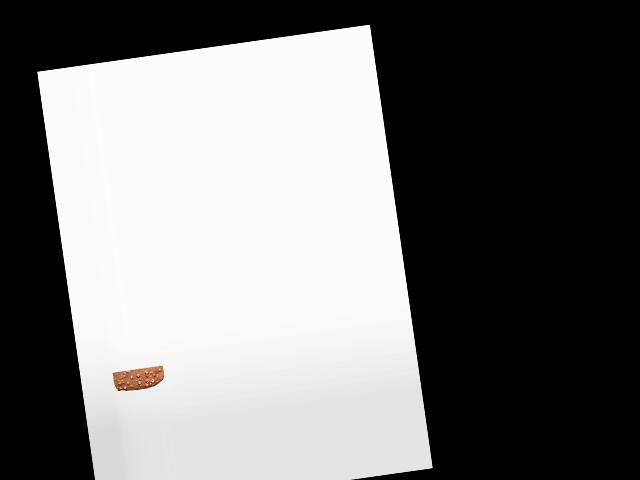chocolate: (112, 363, 166, 396)
